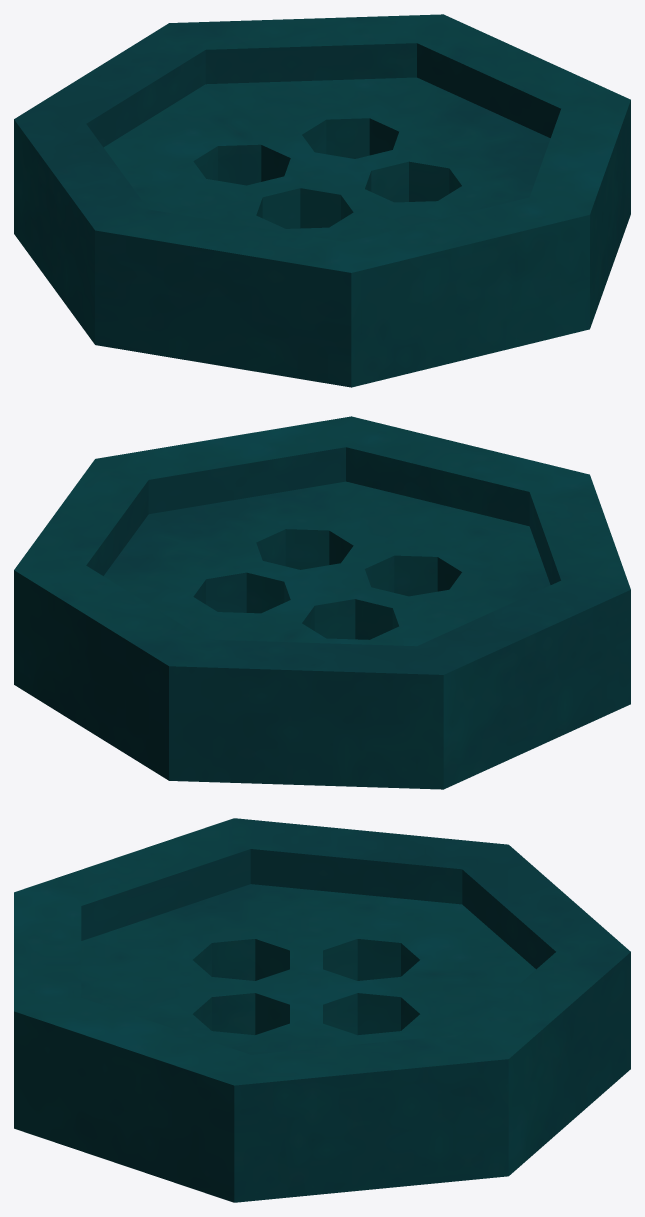
Rendered from Button_01.fbx.
3 views of the same model, one above another, from view 1: azimuth 30°, elevation 25°; view 2: azimuth 150°, elevation 25°; view 3: azimuth 270°, elevation 25° (orthographic). The views are drawn at different scales.
Visible parts, largest first — view 1: Button_01; view 2: Button_01; view 3: Button_01.
Boxes of the visible parts, x1=… form: Button_01: x1=14, y1=14, x2=630, y2=387; Button_01: x1=14, y1=416, x2=630, y2=789; Button_01: x1=14, y1=818, x2=630, y2=1202.
Size of the model in its own units: 30.76 by 6.29 by 29.99.
